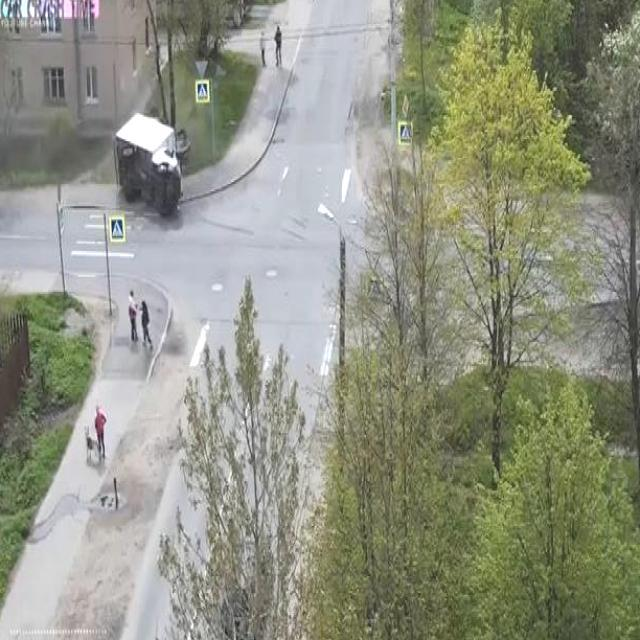accident: (112, 106, 187, 223)
